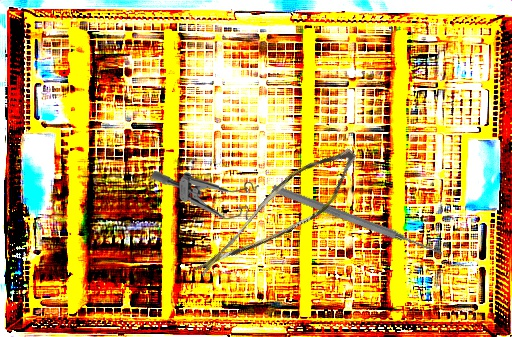Micro Scissor: (193, 123, 366, 310)
Pusher: (270, 182, 445, 260)
Speculum: (149, 171, 261, 221)
